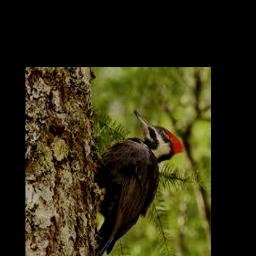Woodpecker: (94, 109, 183, 256)
